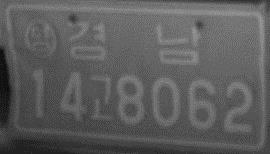0: (149, 76, 183, 127)
1: (29, 65, 48, 122)
2: (221, 81, 255, 133)
4: (55, 72, 90, 123)
6: (186, 77, 218, 131)
8: (114, 73, 148, 126)
경남_D: (64, 18, 203, 68)
고: (88, 72, 115, 123)
영: (23, 17, 60, 59)
